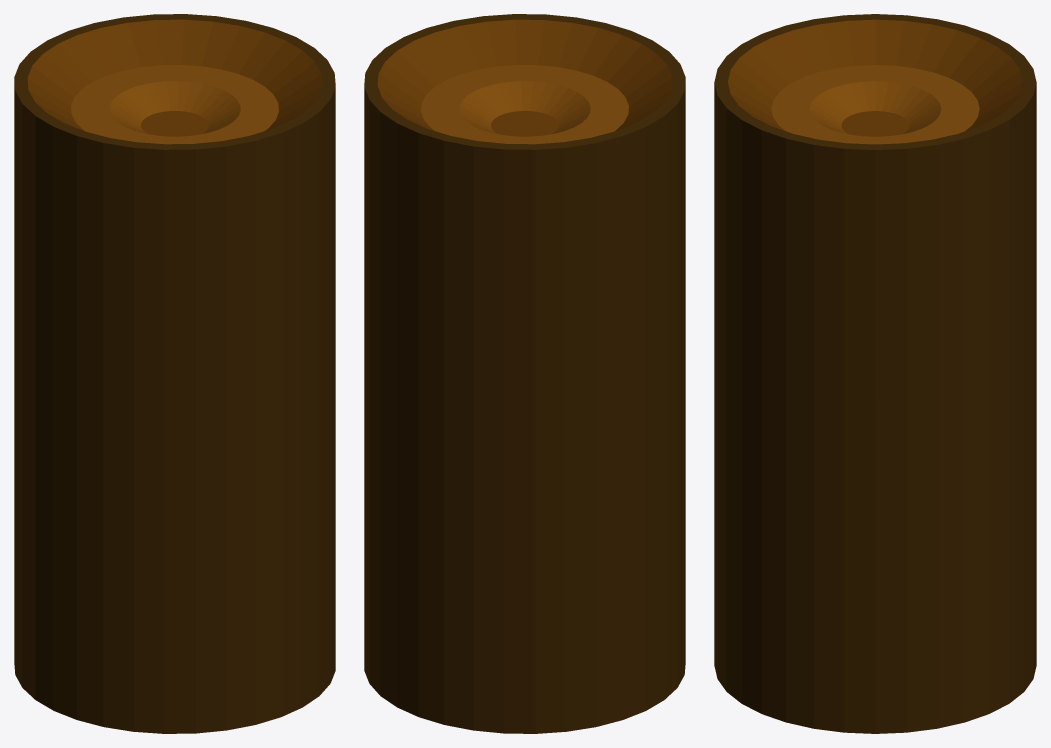
File: Log_Resized.fbx
3 views of the same model, side by side, from view 1: azimuth 30°, elevation 25°; view 2: azimuth 150°, elevation 25°; view 3: azimuth 270°, elevation 25° (orthographic).
Parts seen in each view (by area): view 1: Cylinder; view 2: Cylinder; view 3: Cylinder.
Part boxes in pixels (box(x1,y1,x2,y2)): Cylinder: box(14, 14, 335, 733); Cylinder: box(364, 14, 685, 733); Cylinder: box(714, 14, 1036, 733).
Size of the model in its own units: 100 by 200 by 100.
